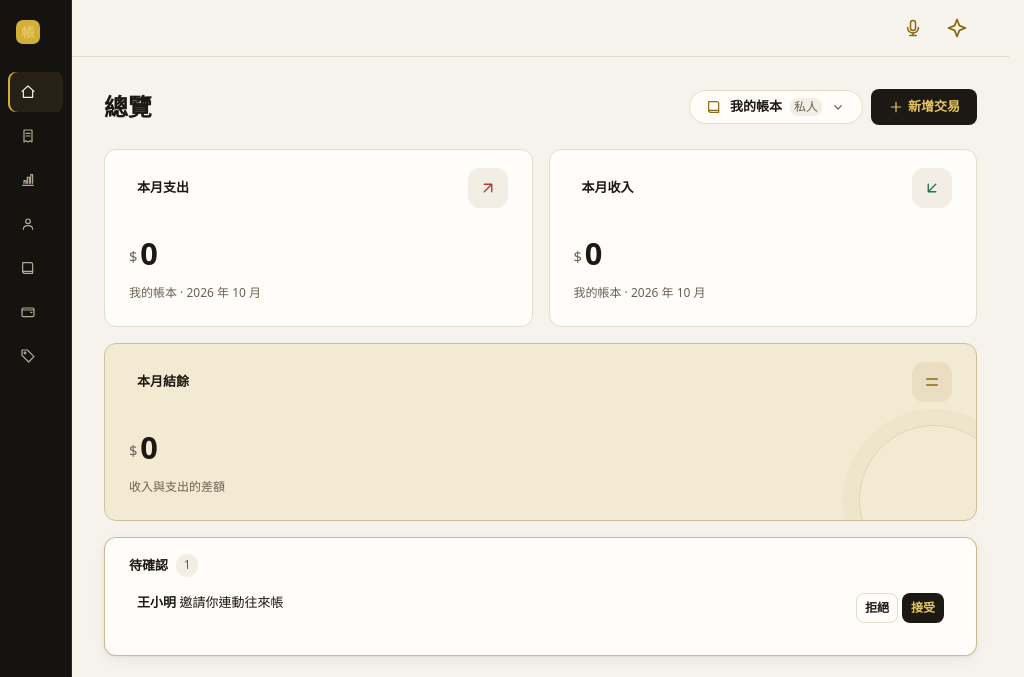
Test case: PendingCard › accepts an invite without a picker or request body and closes its row without a prompt
Expected: the button "新增交易" is shown, [871,89,977,125]
Click the button "接受": (923,608) [902,592,944,622]
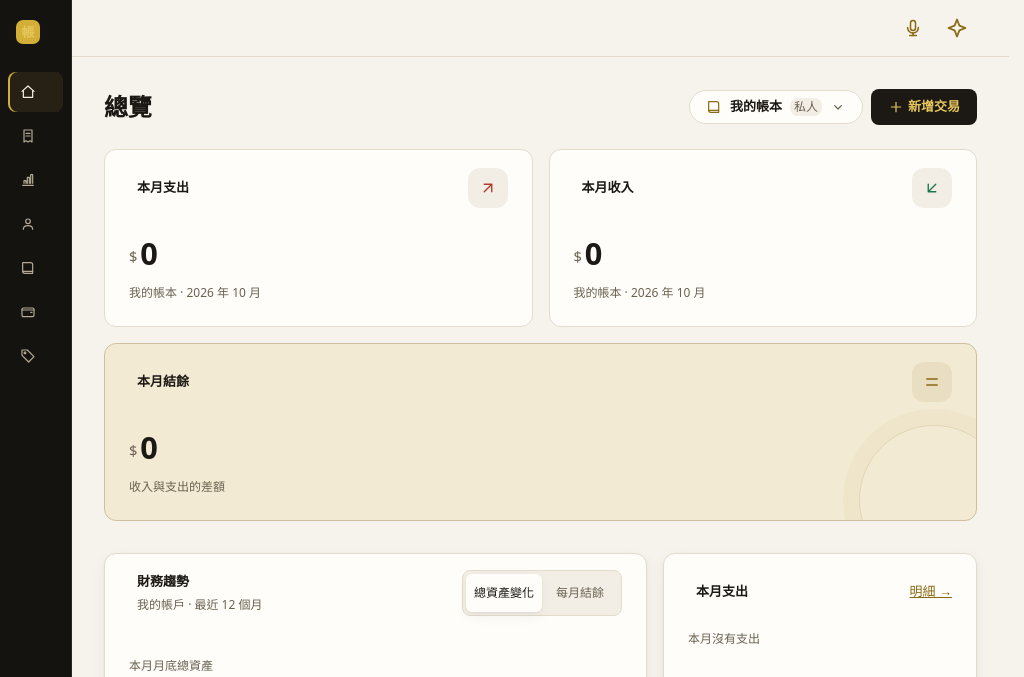
Now the heading "待確認" is gone
